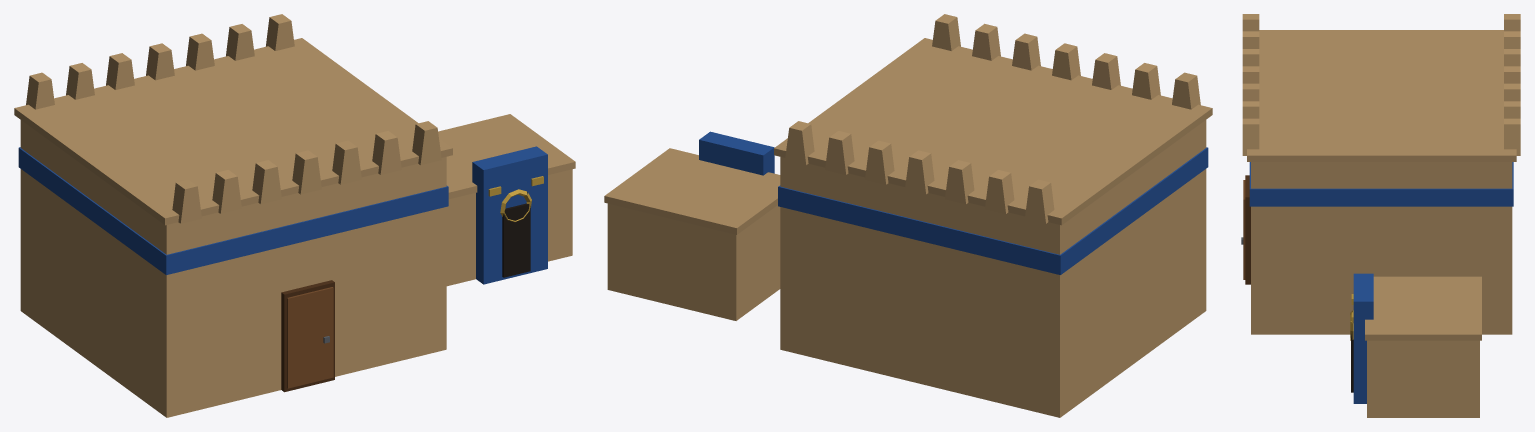
The model's file is minotaur_hall.glb.
3 renders of one model, left to right at view 1: azimuth 30°, elevation 25°; view 2: azimuth 150°, elevation 25°; view 3: azimuth 270°, elevation 25°, orthographic. The views are drawn at different scales.
Visible parts, largest first — view 1: minotaur_hall; view 2: minotaur_hall; view 3: minotaur_hall.
Part boxes in pixels (bbox=[...]): minotaur_hall: bbox=[14, 14, 575, 417]; minotaur_hall: bbox=[604, 14, 1212, 417]; minotaur_hall: bbox=[1241, 14, 1520, 417].
Bounding box in the file's own units: 5.19 × 2.38 × 2.94.
